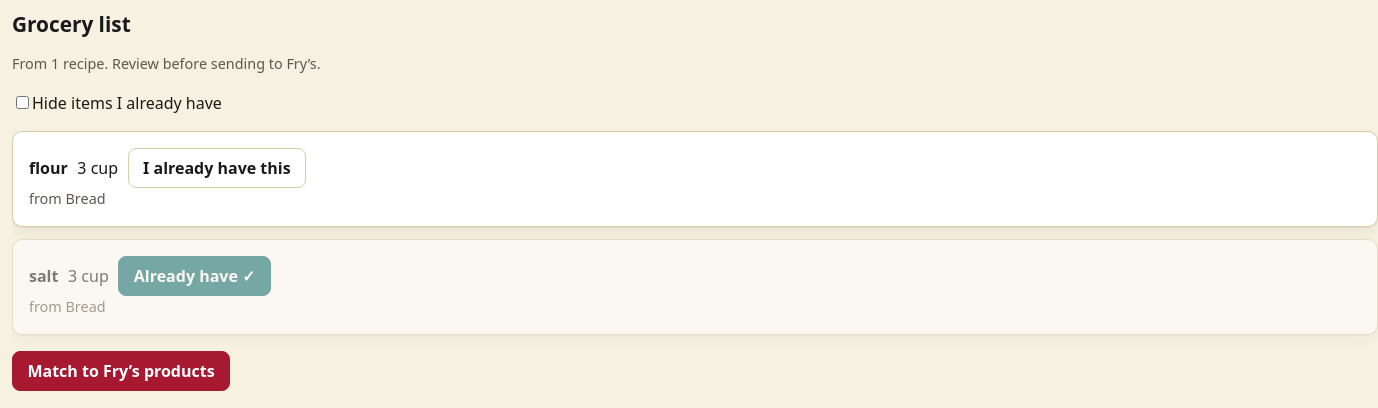
Test: Groceries › hides pantry items when the toggle is on
Expected: the text "salt" is shown, [29,264,58,288]
Click the checkbox labelled "Hide items I already have": x=22, y=102 [16,96,29,109]
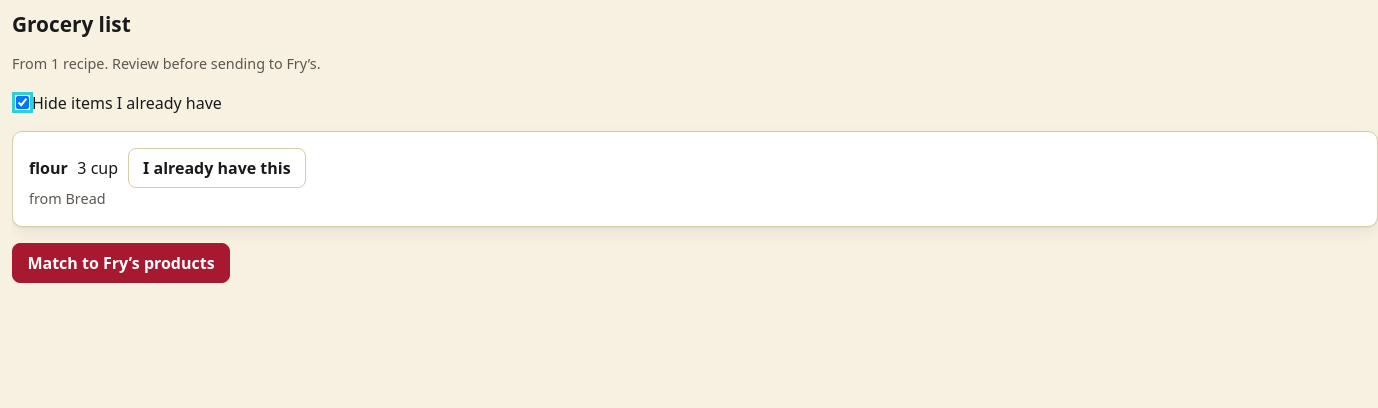
Expected: the text "flour" is shown, [29,156,68,180]
Now the text "salt" is gone
